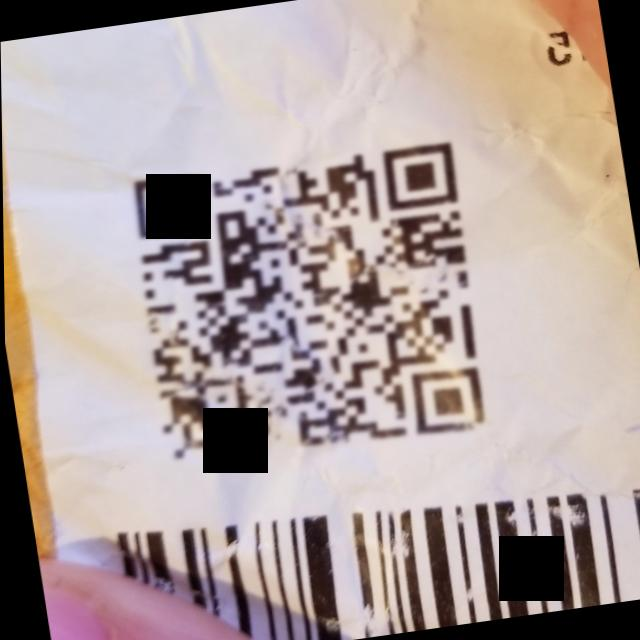QR_CODE: (108, 110, 520, 490)
